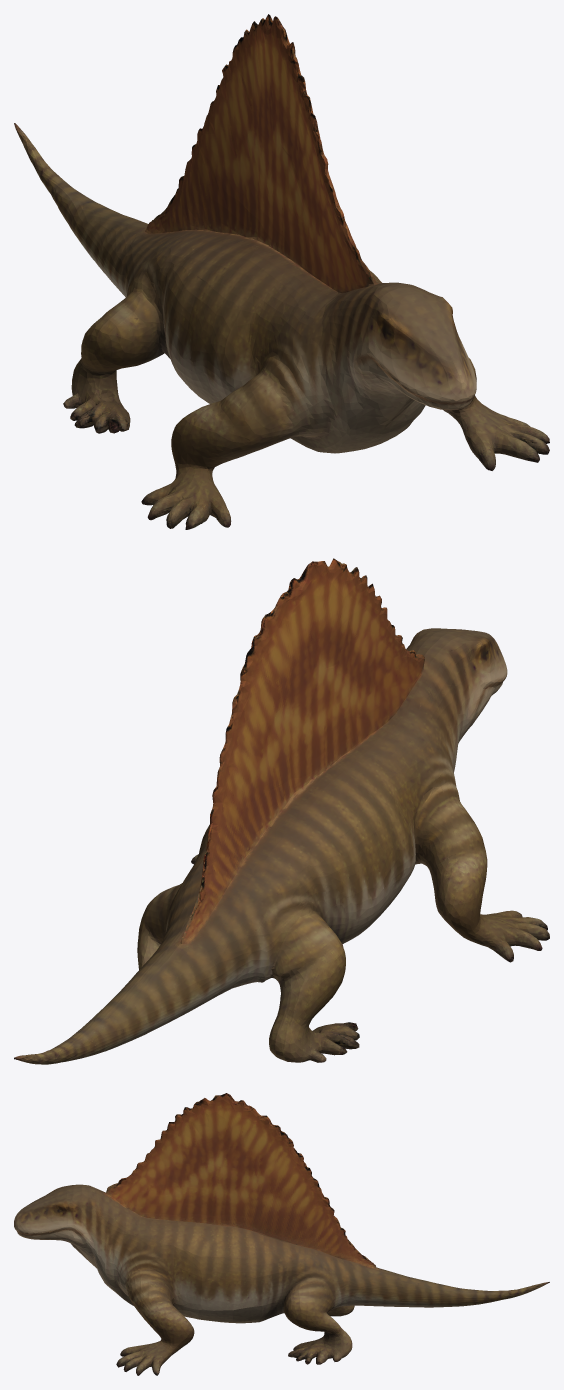
3 views of the same model, one above another, from view 1: azimuth 30°, elevation 25°; view 2: azimuth 150°, elevation 25°; view 3: azimuth 270°, elevation 25° (orthographic). The views are drawn at different scales.
Parts seen in each view (by area): view 1: world; view 2: world; view 3: world.
Boxes of the visible parts, bbox=[...] form: world: bbox=[14, 14, 549, 529]; world: bbox=[14, 558, 549, 1064]; world: bbox=[14, 1093, 549, 1375].
Size of the model in its own units: 0.8195 by 0.9039 by 1.8.
Materials: 1 (1 with a texture image).
